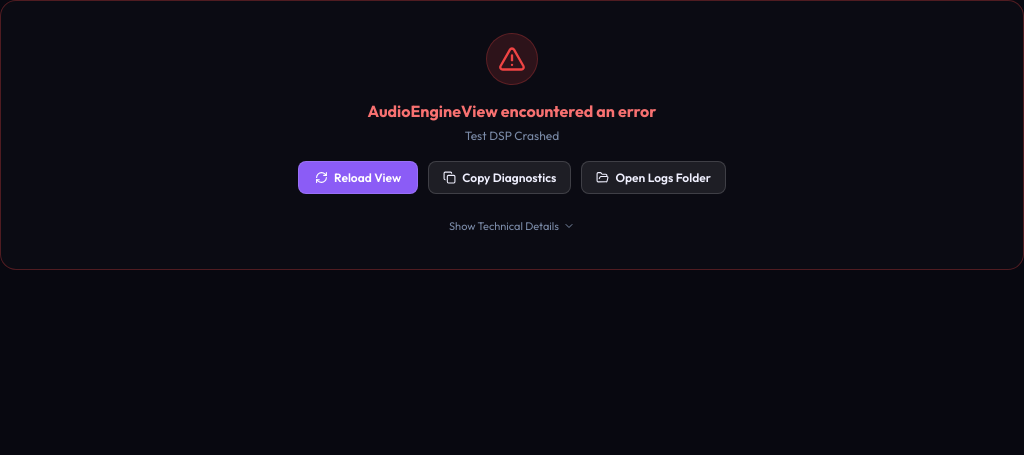
Enhanced ErrorBoundary with Diagnostics › shows diagnostics actions on catch
Check: the message is shown, box 0,0 -> 1023,270
Check: the heading "AudioEngineView encountered an error" is shown, box 368,101 -> 656,121
# Click Show Technical Details
Click the button "Show Technical Details" at {"x": 512, "y": 226}, box 441,215 -> 583,237
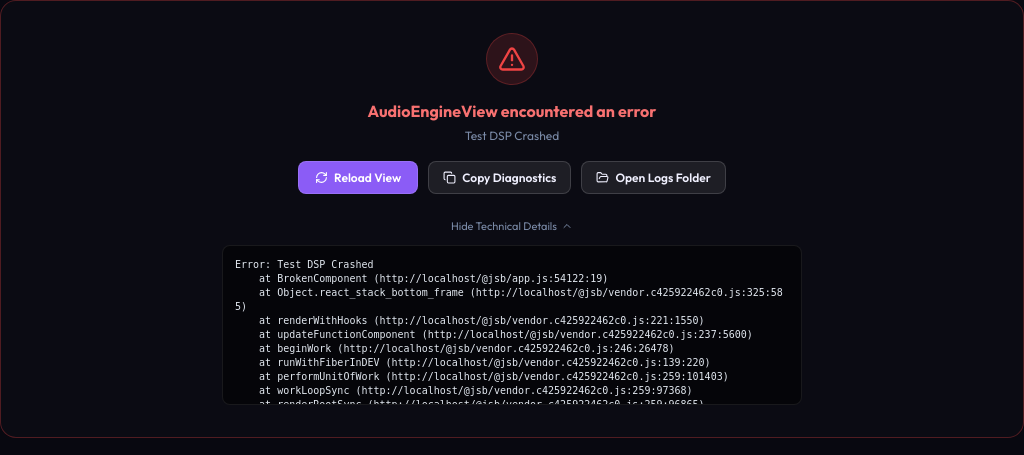
Check: the text "Hide Technical Details" is shown, box 451,219 -> 557,233
